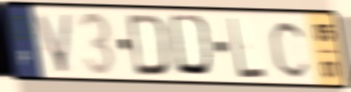3: (78, 10, 119, 78)
C: (268, 18, 313, 81)
D: (167, 12, 218, 81), (125, 12, 172, 79)
L: (227, 15, 268, 80)
V: (32, 11, 75, 76)
